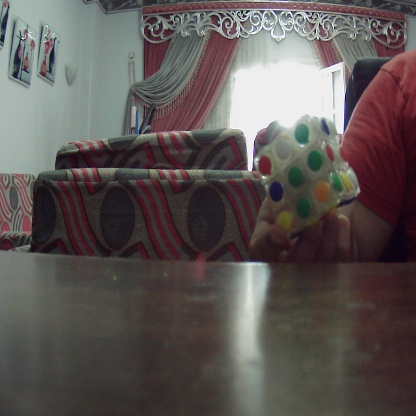Rubix Cube: (260, 126, 358, 219)
